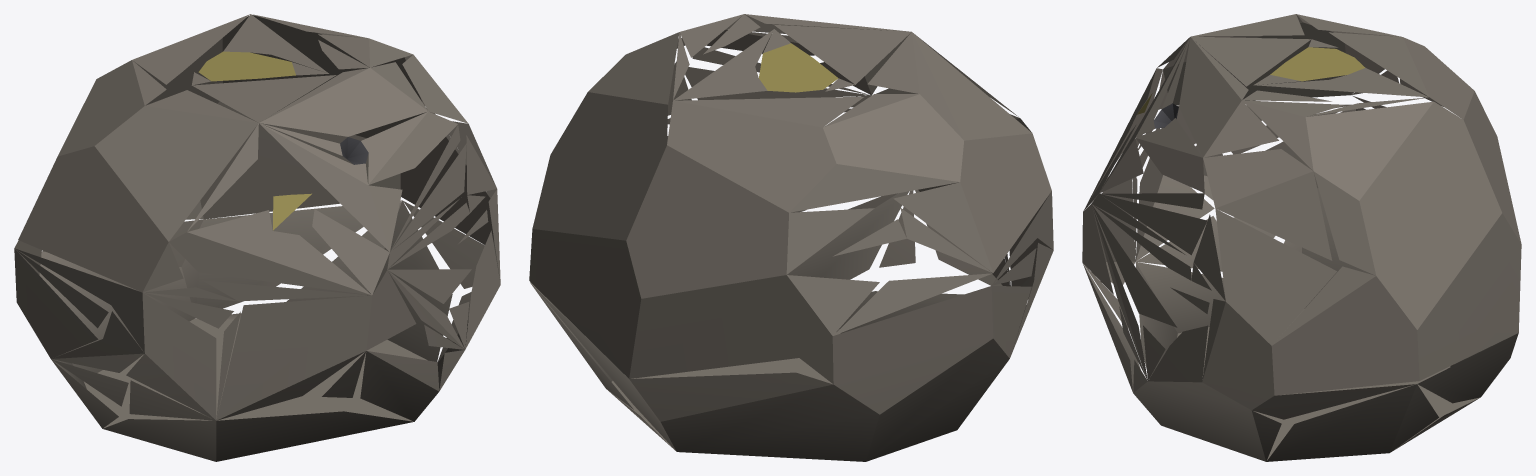
File: basalt.lod.glb
The picture shows the model from 3 angles, left to right: view 1: azimuth 30°, elevation 25°; view 2: azimuth 150°, elevation 25°; view 3: azimuth 270°, elevation 25°; orthographic projection. The views are drawn at different scales.
Parts seen in each view (by area): view 1: basalt; view 2: basalt; view 3: basalt.
Boxes of the visible parts, x1=… form: basalt: x1=14, y1=14, x2=500, y2=461; basalt: x1=529, y1=14, x2=1053, y2=461; basalt: x1=1082, y1=14, x2=1521, y2=461.
Size of the model in its own units: 3.08 by 2.18 by 2.69.
